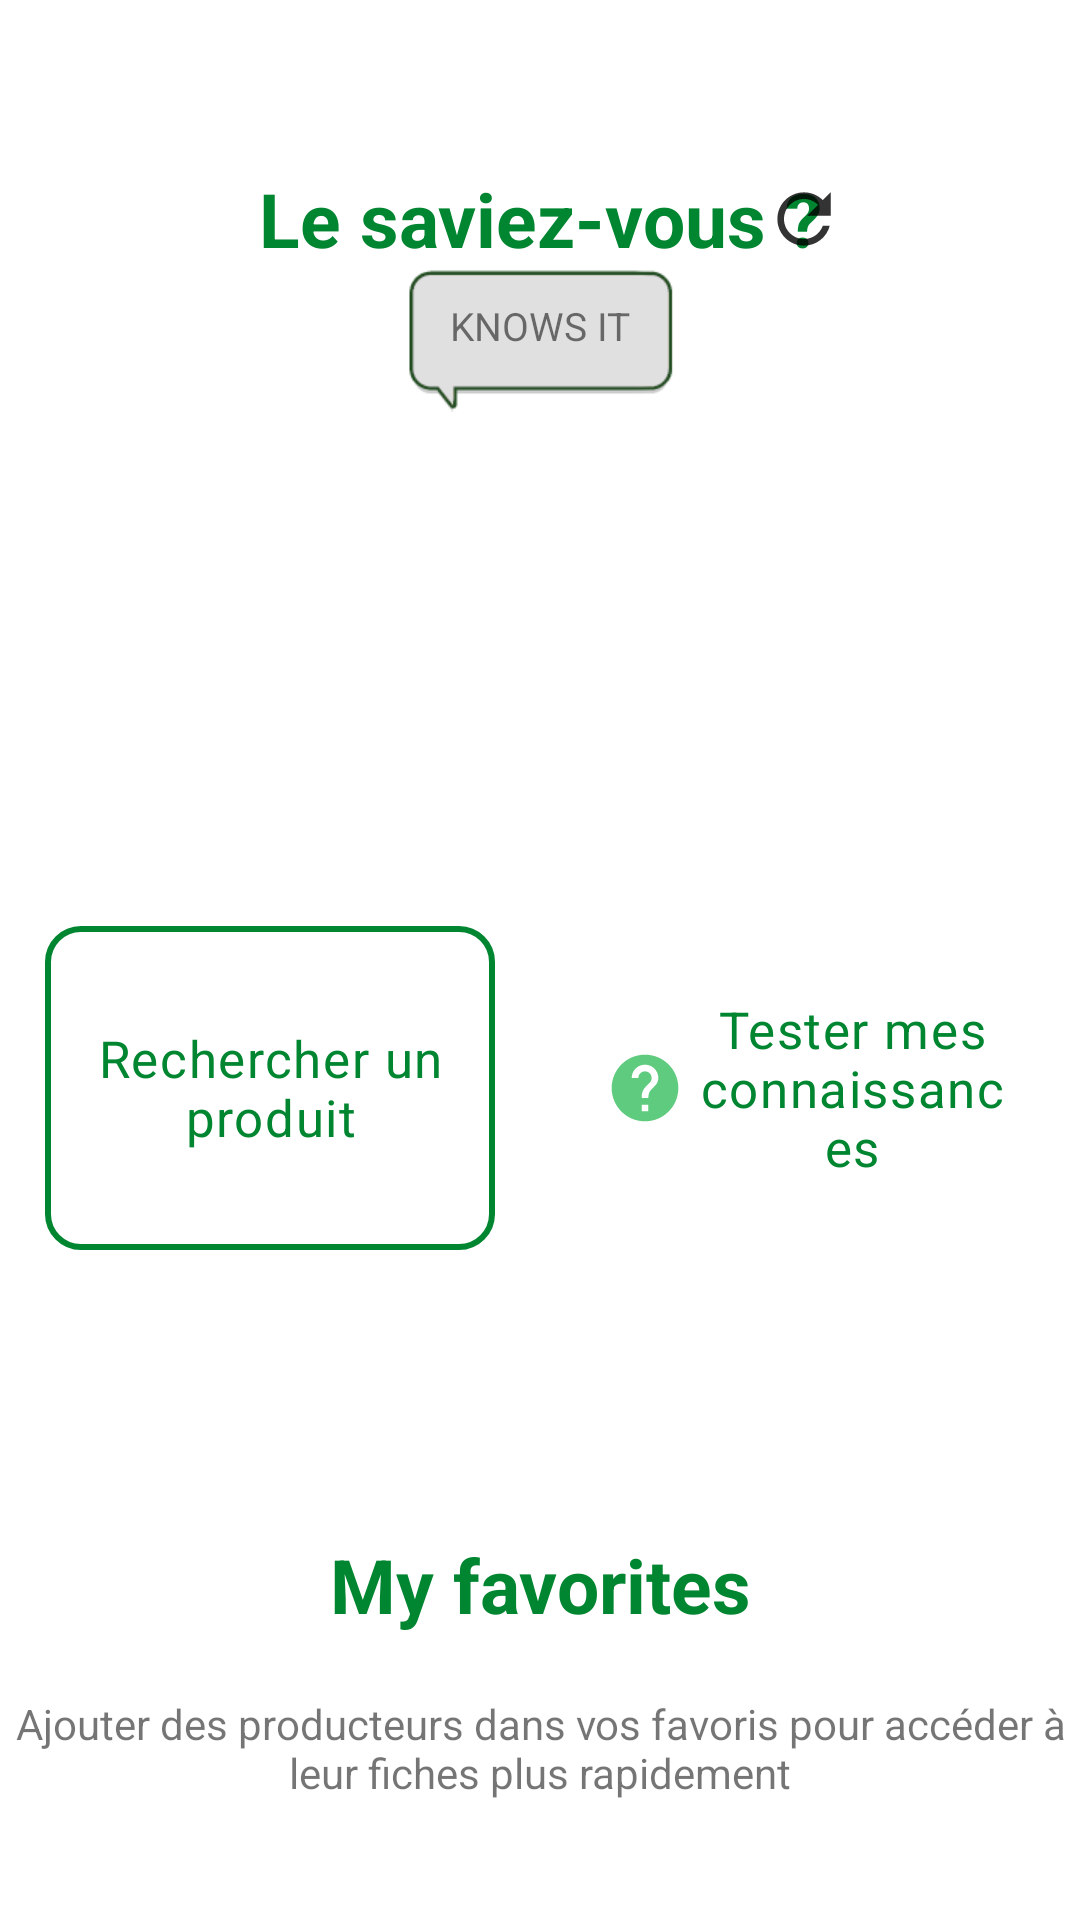

Screen size 1080px x 1920px. Icon name, then its center in pixels as point (x, y):
refresh: point (804, 220)
